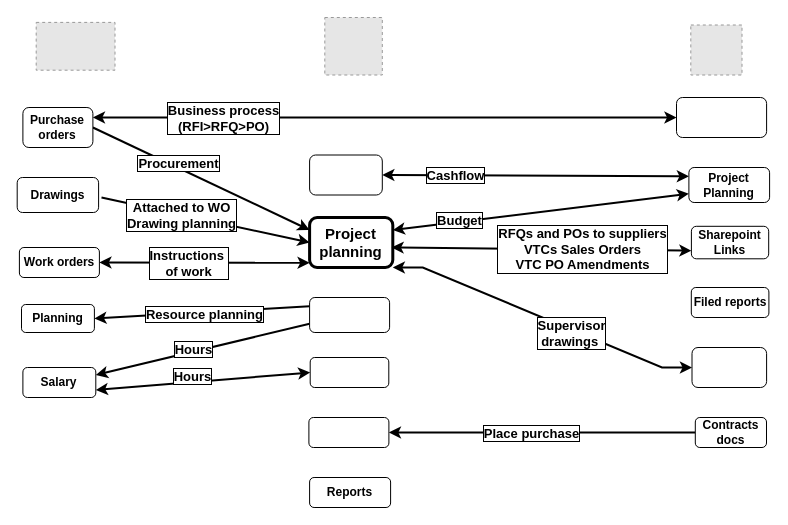
The diagram is 788 pixels wide and 525 high, and some of its shapes have lost their labels. Grey dashed boxes stand in for pictures. The shapes that lost their labels are listed below. From the top down, each one's centre as x and y in pixels, then its label:
At point 721,117: "Specs documents".
At point 345,174: "Progress".
At point 349,314: "Holiday Planning".
At point 349,372: "Timesheets".
At point 729,367: "Drawing Revision".
At point 348,432: "Critical path".
